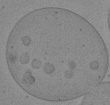small: (19, 52, 30, 64), (21, 36, 32, 47), (24, 72, 35, 83), (44, 63, 55, 74), (8, 54, 18, 64), (88, 61, 98, 70), (33, 59, 41, 69), (69, 60, 76, 69), (65, 71, 73, 78)
